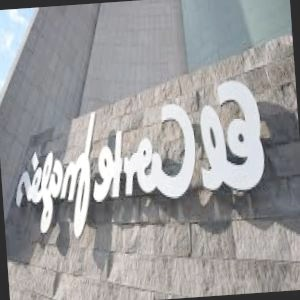corte_ingles: (41, 184, 300, 254)
